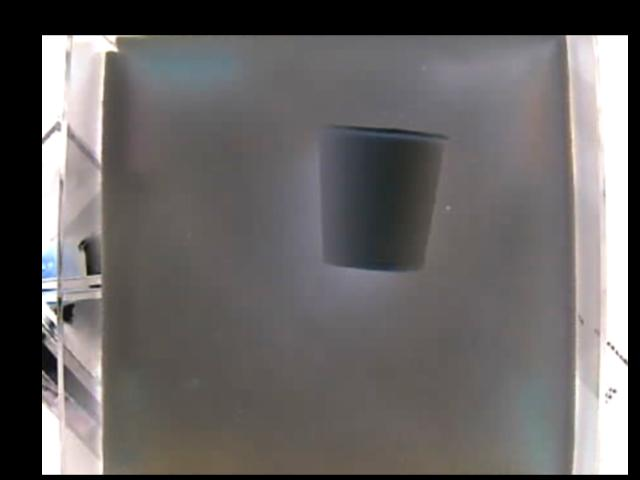Cup: (316, 124, 449, 273)
